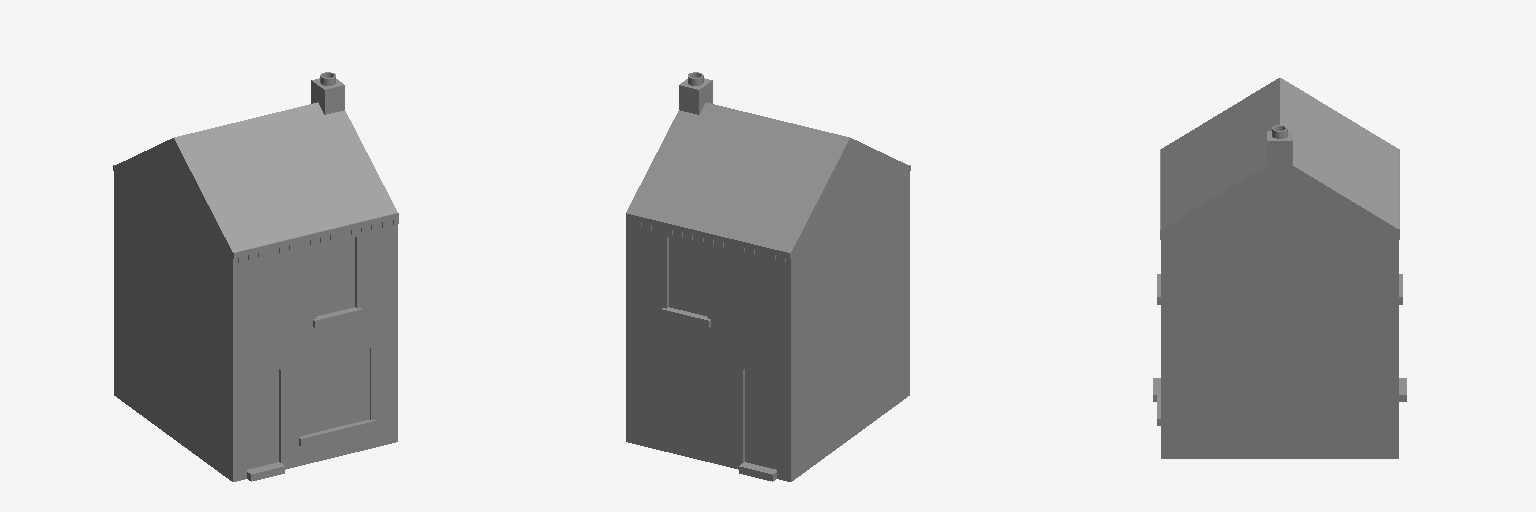
Rendered from house1.obj.
The picture shows the model from 3 angles: view 1: azimuth 30°, elevation 25°; view 2: azimuth 150°, elevation 25°; view 3: azimuth 270°, elevation 25°; orthographic projection.
Visible parts, largest first — view 1: group_0_ID489, group_2.017_ID317, group_0.002_ID505, group_2.016_ID309, group_2.012_ID277, group_2.004_ID198, group_3_ID56, group_2.011_ID269, group_2.015_ID301, group_1.001_ID18, group_2.006_ID219, group_2.001_ID169; view 2: group_0_ID489, group_4.006_ID473, group_0.002_ID505, group_4.005_ID465, group_4.007_ID481, group_5_ID341, group_4.004_ID457, group_1.001_ID18, group_4.001_ID433; view 3: group_0.003_ID518, group_0.002_ID505, group_1.001_ID18.
Part boxes in pixels (x1,y1,x2,y2): group_0_ID489: (114, 138, 232, 481); group_2.017_ID317: (233, 220, 397, 474); group_0.002_ID505: (174, 102, 397, 252); group_2.016_ID309: (302, 349, 369, 435); group_2.012_ID277: (247, 366, 278, 469); group_2.004_ID198: (316, 238, 354, 316); group_3_ID56: (234, 213, 398, 262); group_2.011_ID269: (233, 435, 397, 481); group_2.015_ID301: (299, 333, 373, 365); group_1.001_ID18: (311, 78, 344, 114); group_2.006_ID219: (299, 419, 375, 445); group_2.001_ID169: (313, 307, 362, 327); group_0_ID489: (791, 138, 909, 481); group_4.006_ID473: (626, 220, 790, 474); group_0.002_ID505: (626, 102, 849, 252); group_4.005_ID465: (745, 366, 776, 469); group_4.007_ID481: (669, 238, 707, 316); group_5_ID341: (626, 213, 789, 262); group_4.004_ID457: (626, 435, 790, 481); group_1.001_ID18: (679, 78, 712, 114); group_4.001_ID433: (661, 307, 710, 327); group_0.003_ID518: (1161, 158, 1398, 458); group_0.002_ID505: (1161, 78, 1398, 228); group_1.001_ID18: (1267, 131, 1292, 164).
Bounding box in the file's own units: 3.37 × 6.35 × 4.48.